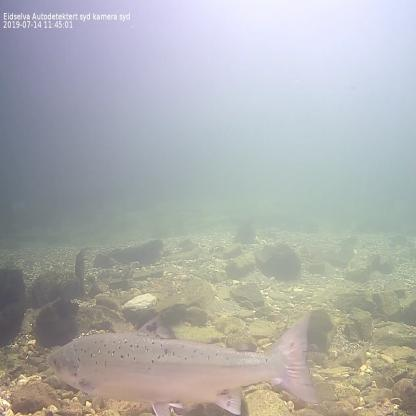salmon: (44, 310, 319, 415)
